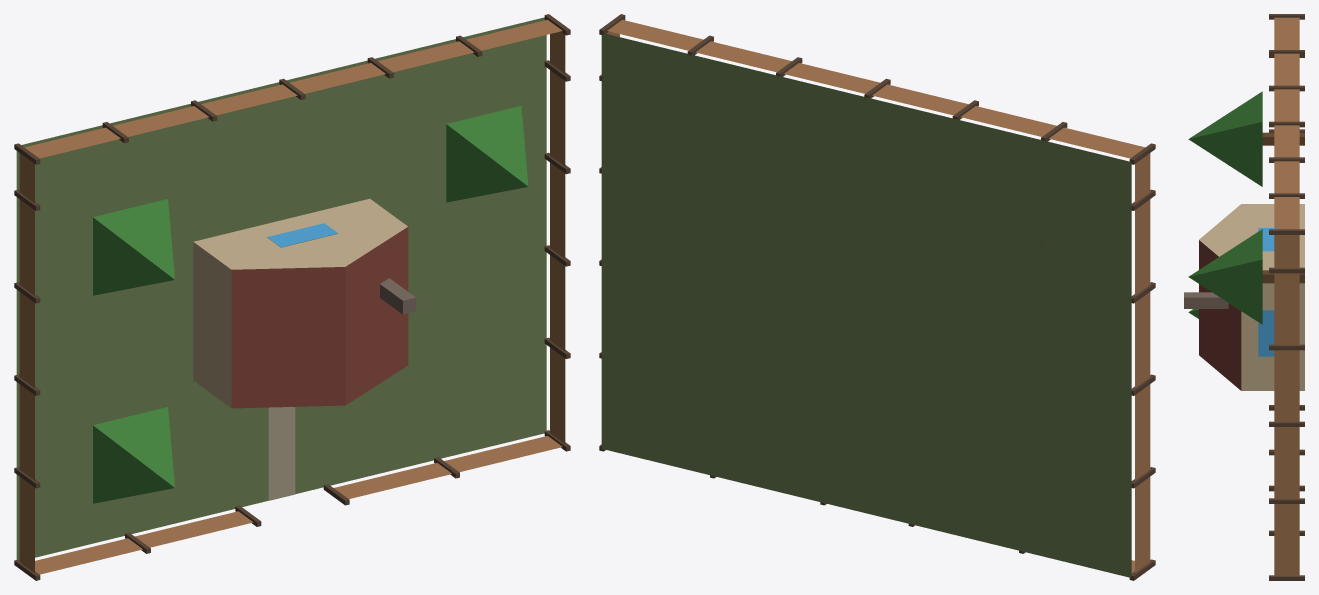
The model's file is cabin.obj.
The picture shows the model from 3 angles, left to right: view 1: azimuth 30°, elevation 25°; view 2: azimuth 150°, elevation 25°; view 3: azimuth 270°, elevation 25°; orthographic projection. The views are drawn at different scales.
Visible parts, largest first — view 1: glyph_scene; view 2: glyph_scene; view 3: glyph_scene.
Boxes of the visible parts, <box> form: glyph_scene: <box>14,14,570,580</box>; glyph_scene: <box>599,14,1155,580</box>; glyph_scene: <box>1184,14,1304,580</box>.
Size of the model in its own units: 24.2 by 18.2 by 5.7.
